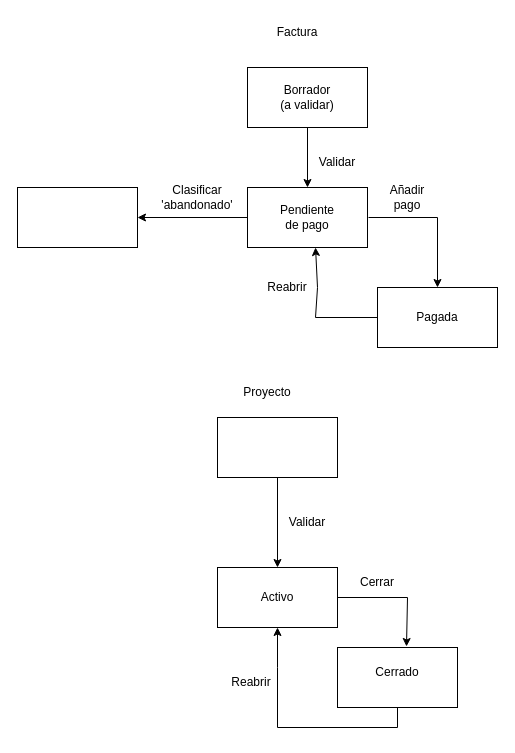
This 515x753 diagram has some shape labels left out. The centre of each missing label's shape, as x and y in pixels:
"Borrador" goes at (277,447).
"Cerrada (pendiente de pago)" goes at (77,217).
